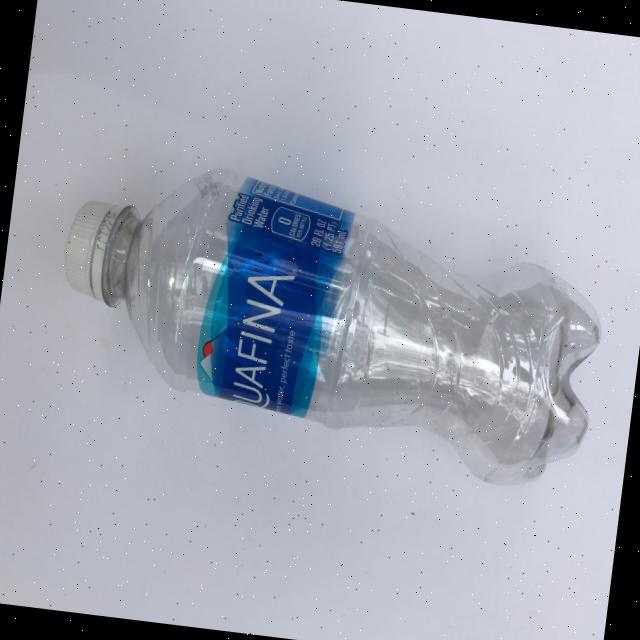plastic: (43, 148, 616, 496)
